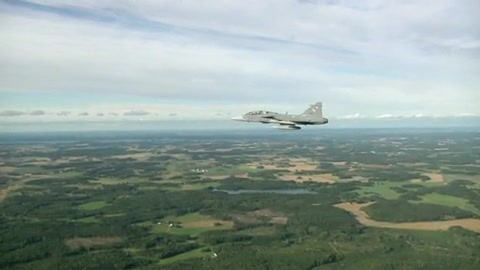aeroplane: (231, 102, 331, 132)
